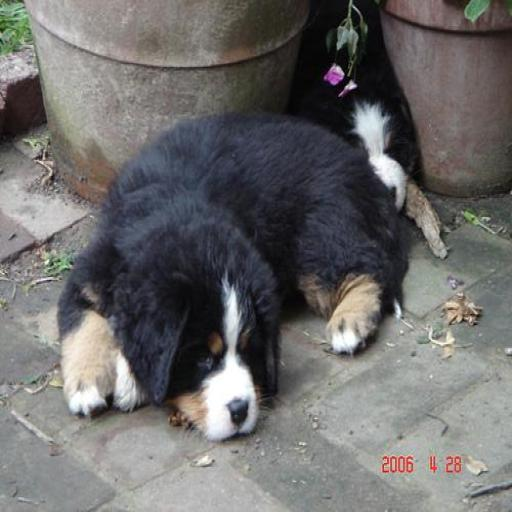dog_face: (126, 250, 288, 442)
